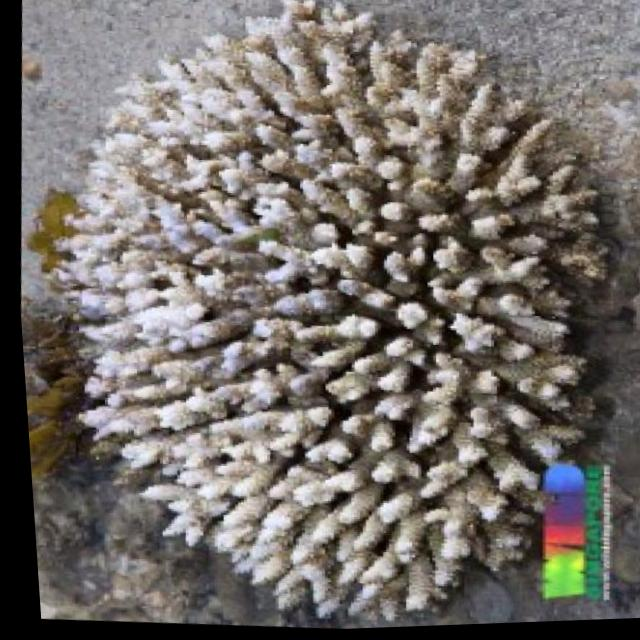Bleached Coral: (17, 0, 629, 640)
